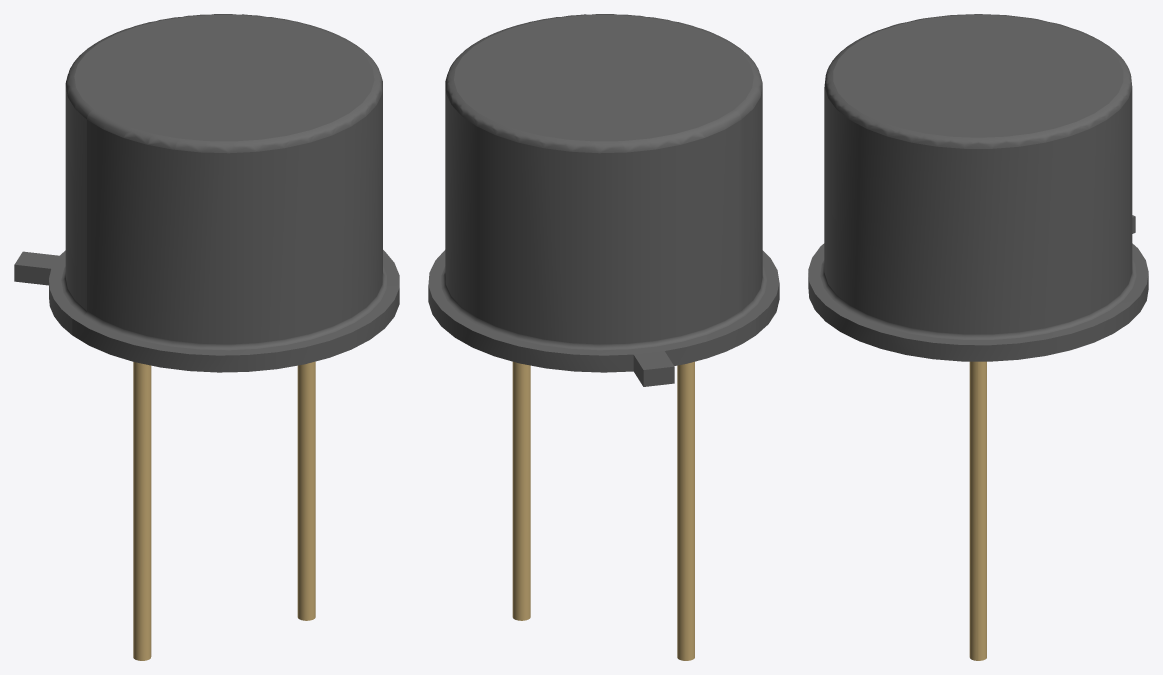
3 renders of one model, left to right at view 1: azimuth 30°, elevation 25°; view 2: azimuth 150°, elevation 25°; view 3: azimuth 270°, elevation 25°, orthographic. The views are drawn at different scales.
Parts seen in each view (by area): view 1: 0.16666666666666666_0.16666666666666666_0.16666666666666666_, 0.75_0.5_0.25_0.9; view 2: 0.16666666666666666_0.16666666666666666_0.16666666666666666_, 0.75_0.5_0.25_0.9; view 3: 0.16666666666666666_0.16666666666666666_0.16666666666666666_, 0.75_0.5_0.25_0.9.
Boxes of the visible parts, x1,y1,x2,y2 form: 0.16666666666666666_0.16666666666666666_0.16666666666666666_: (14,14,399,372); 0.75_0.5_0.25_0.9: (133,361,315,660); 0.16666666666666666_0.16666666666666666_0.16666666666666666_: (428,14,779,386); 0.75_0.5_0.25_0.9: (512,361,694,660); 0.16666666666666666_0.16666666666666666_0.16666666666666666_: (808,14,1148,361); 0.75_0.5_0.25_0.9: (969,361,986,660).
Bounding box in the file's own units: 0.9389 × 1.65 × 0.9393.
